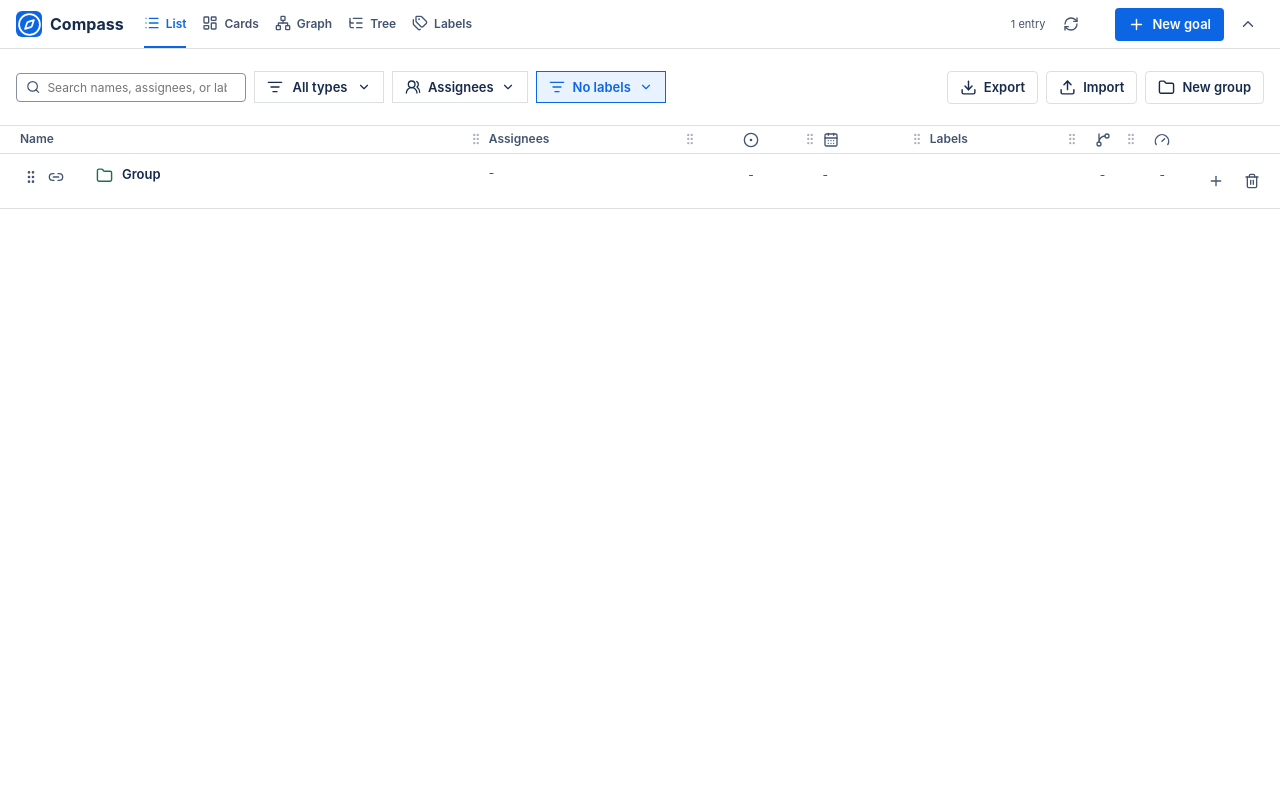
Test: given the New goal dialog, fields follow the requested order and parent selection remains available
Click the button named "Add goal under Group" at [1216, 181], box [1200,165,1232,197]
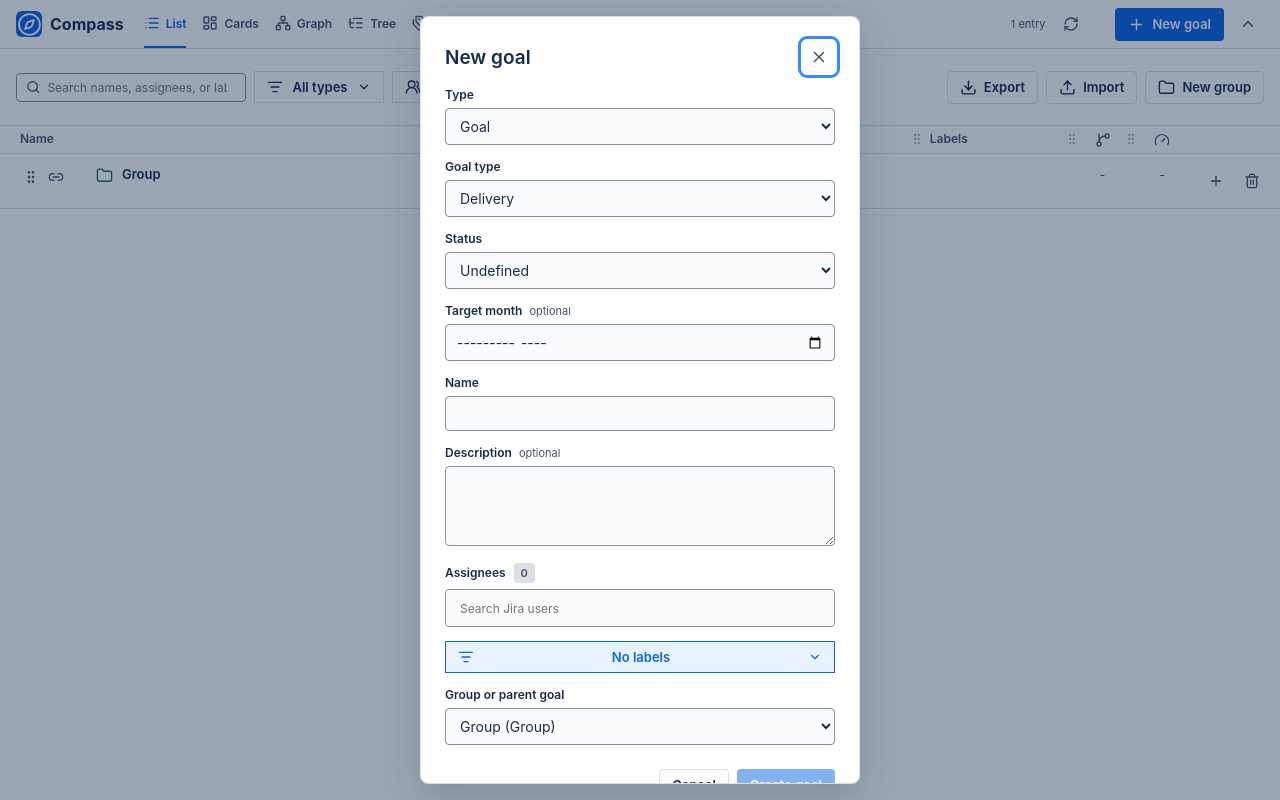
Expected: the dropdown with id "new-goal-status" shows "Undefined", [445,252,835,289]
Expected: the dropdown with id "new-parent" shows "Group (Group)", [445,708,835,745]
